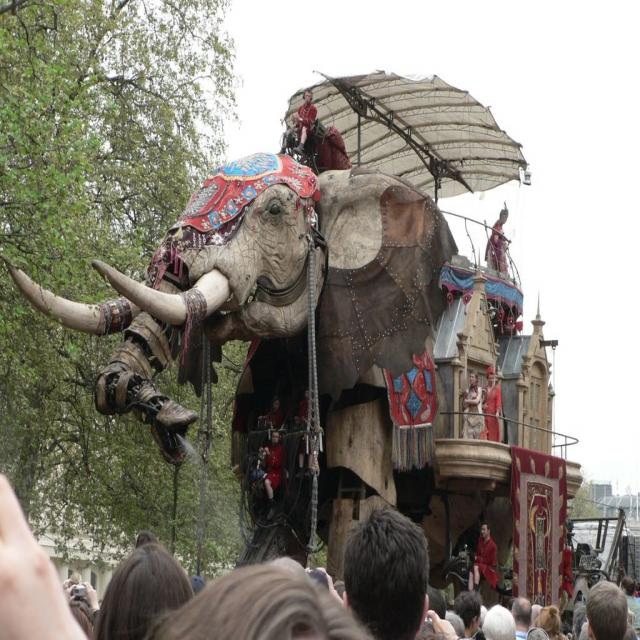elephant: (1, 154, 456, 587)
